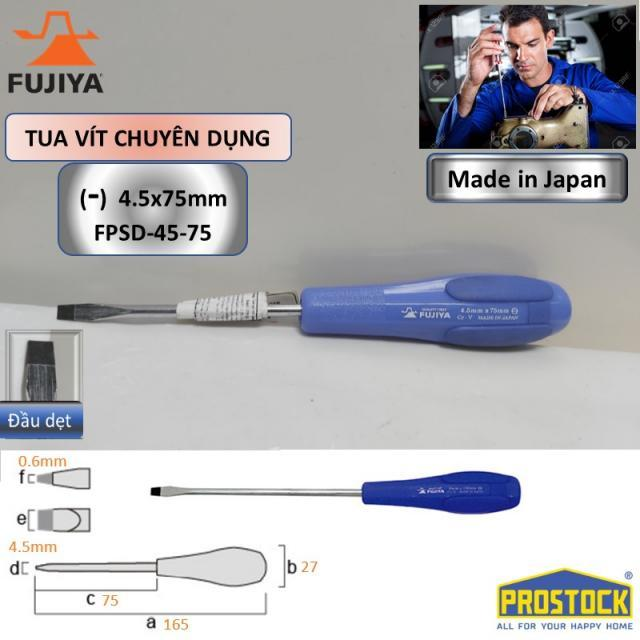screwdriver: (56, 271, 578, 354), (150, 456, 532, 519)
